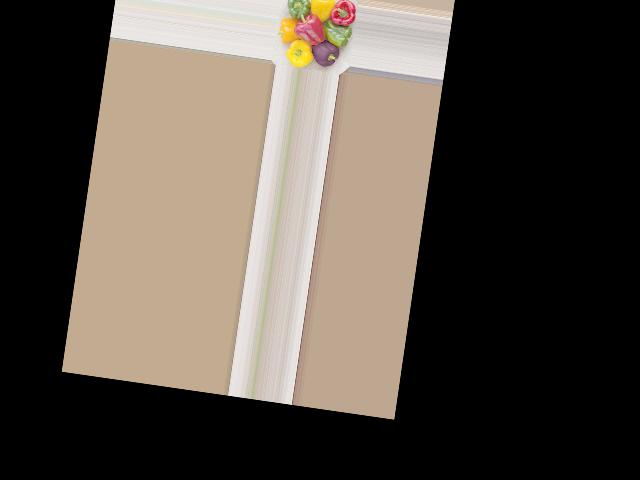bell_pepper: (309, 33, 348, 68)
